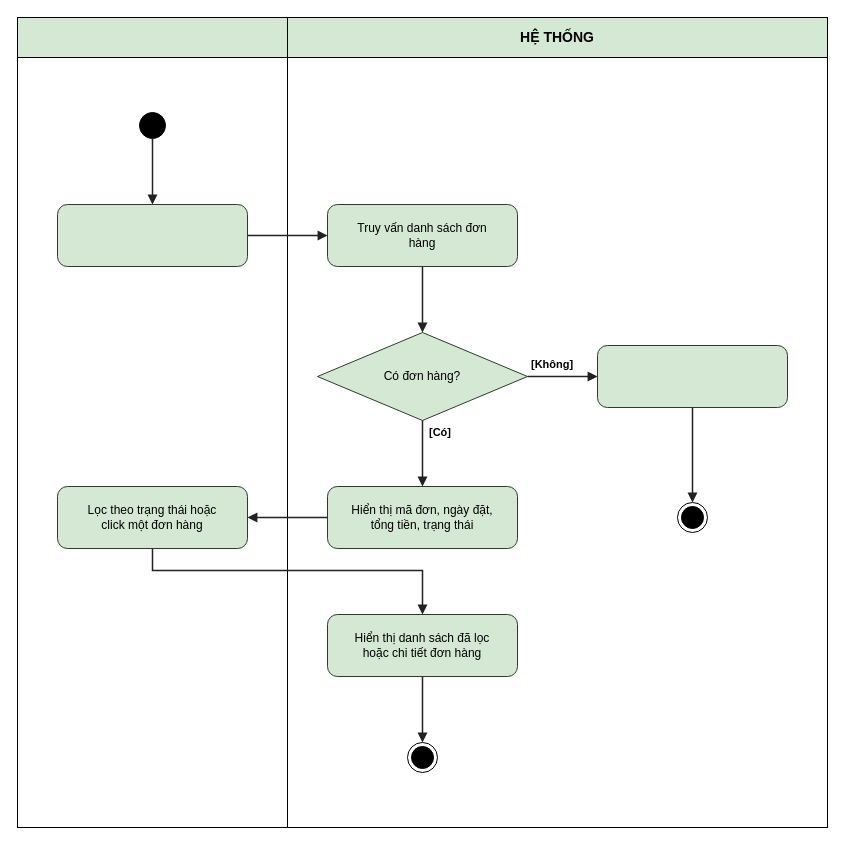
The diagram is 845 pixels wide and 845 high, and some of its shapes have lost their labels. The centre of each missing label's shape, as x and y in pixels:
Hiển thị "Bạn chưa có đơn hàng nào": pixel 692 376
NGƯỜI DÙNG: pixel 152 37
Vào "Tài khoản" > "Đơn hàng của tôi": pixel 152 235
